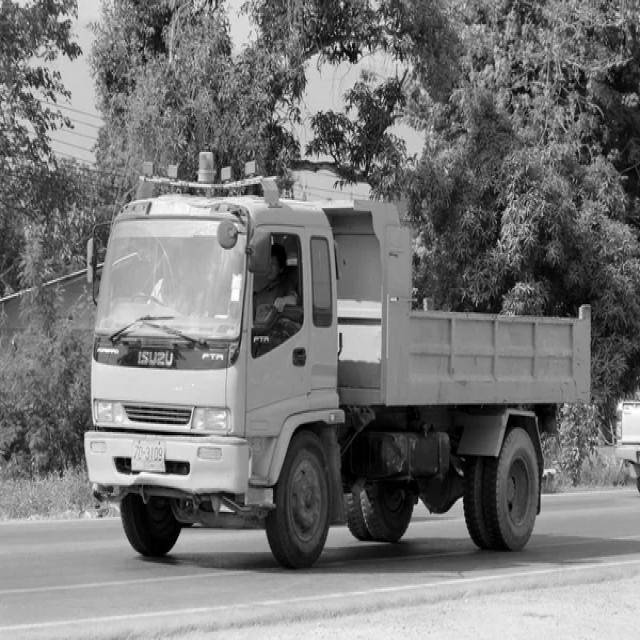Truck: (84, 176, 592, 567)
